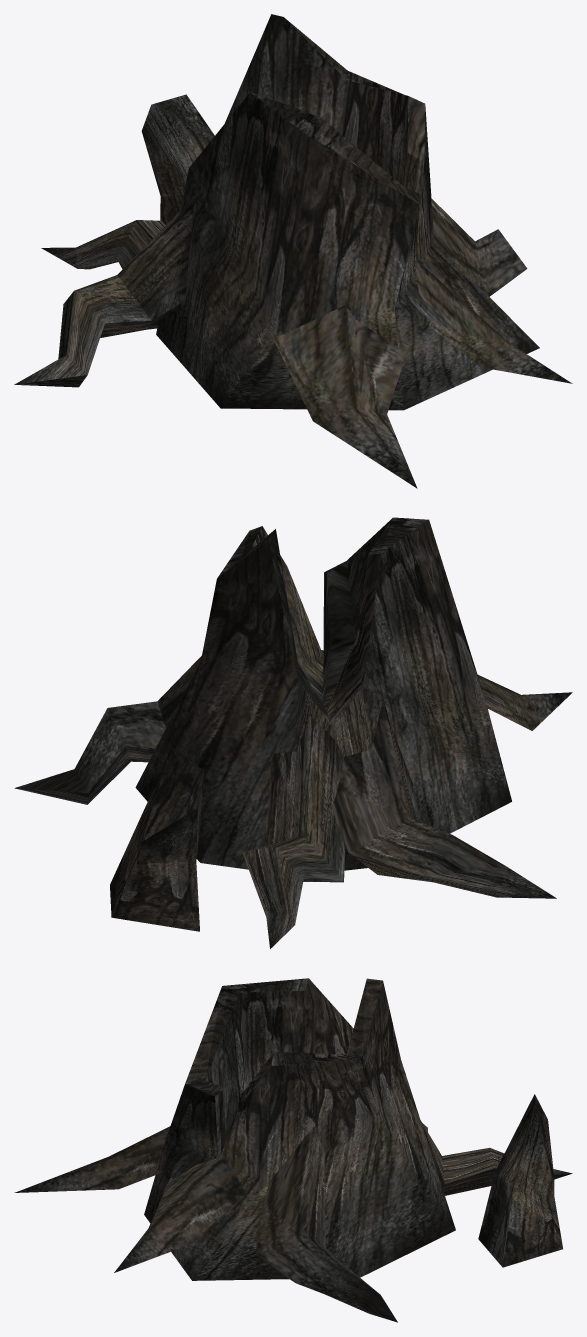
3 views of the same model, one above another, from view 1: azimuth 30°, elevation 25°; view 2: azimuth 150°, elevation 25°; view 3: azimuth 270°, elevation 25° (orthographic). The views are drawn at different scales.
Visible parts, largest first — view 1: wj029; view 2: wj029; view 3: wj029.
Part boxes in pixels (x1=…): wj029: x1=14, y1=14, x2=572, y2=488; wj029: x1=14, y1=517, x2=572, y2=948; wj029: x1=14, y1=978, x2=572, y2=1322.
Size of the model in its own units: 707 by 419 by 808.
